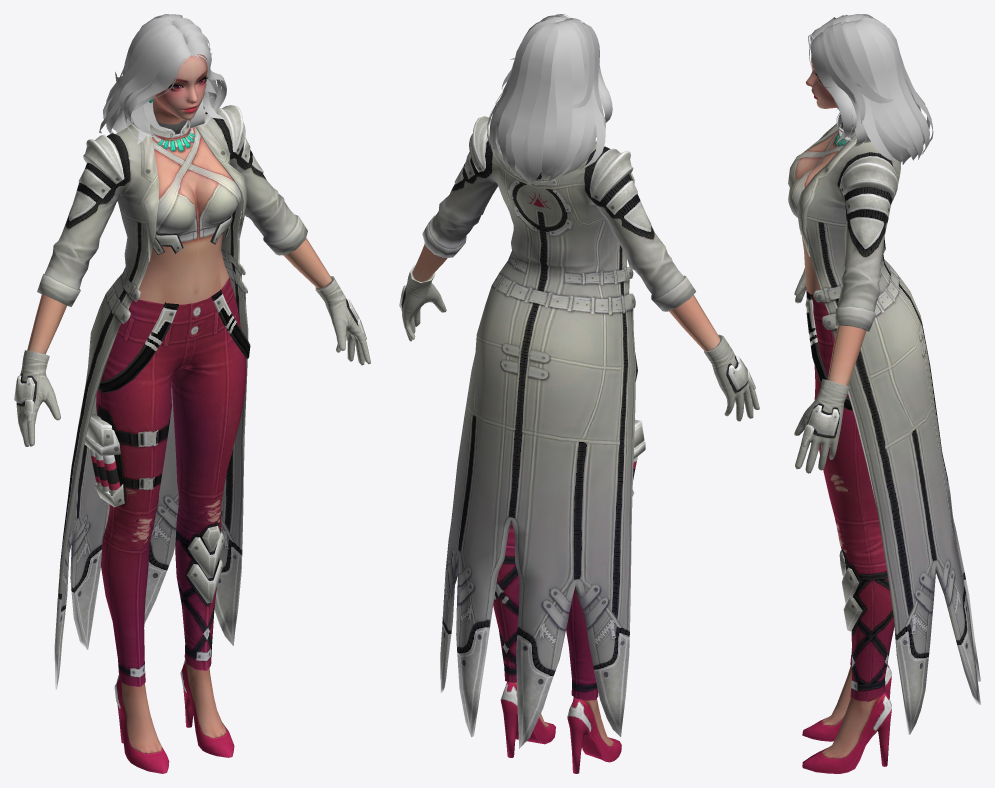
The picture shows the model from 3 angles, left to right: view 1: azimuth 30°, elevation 25°; view 2: azimuth 150°, elevation 25°; view 3: azimuth 270°, elevation 25°; orthographic projection.
Visible parts, largest first — view 1: Vice; view 2: Vice; view 3: Vice.
Boxes of the visible parts, x1,y1,x2,y2 form: Vice: (14,14,370,773); Vice: (399,14,759,773); Vice: (788,14,980,773).
Size of the model in its own units: 0.8442 by 1.72 by 0.4095.
